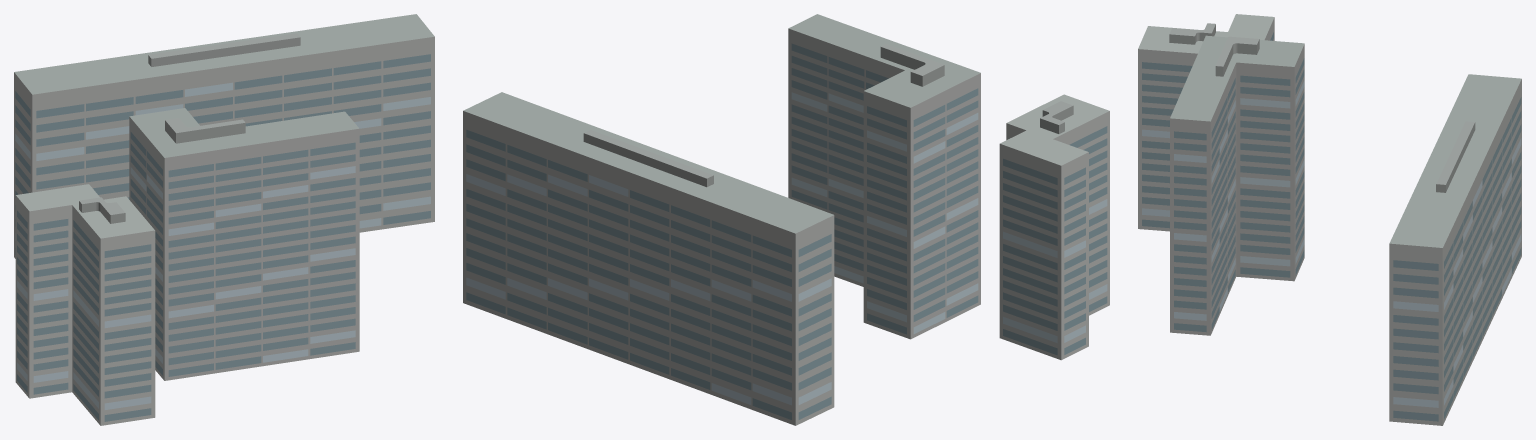
The model's file is apt-a15080204.glb.
3 views of the same model, side by side, from view 1: azimuth 30°, elevation 25°; view 2: azimuth 150°, elevation 25°; view 3: azimuth 270°, elevation 25° (orthographic). The views are drawn at different scales.
Visible parts, largest first — view 1: apt-a15080204; view 2: apt-a15080204; view 3: apt-a15080204.
Boxes of the visible parts, bbox=[...] form: apt-a15080204: bbox=[14, 14, 434, 425]; apt-a15080204: bbox=[463, 14, 1109, 425]; apt-a15080204: bbox=[1138, 14, 1521, 425].
Size of the model in its own units: 111 by 50 by 77.54.
